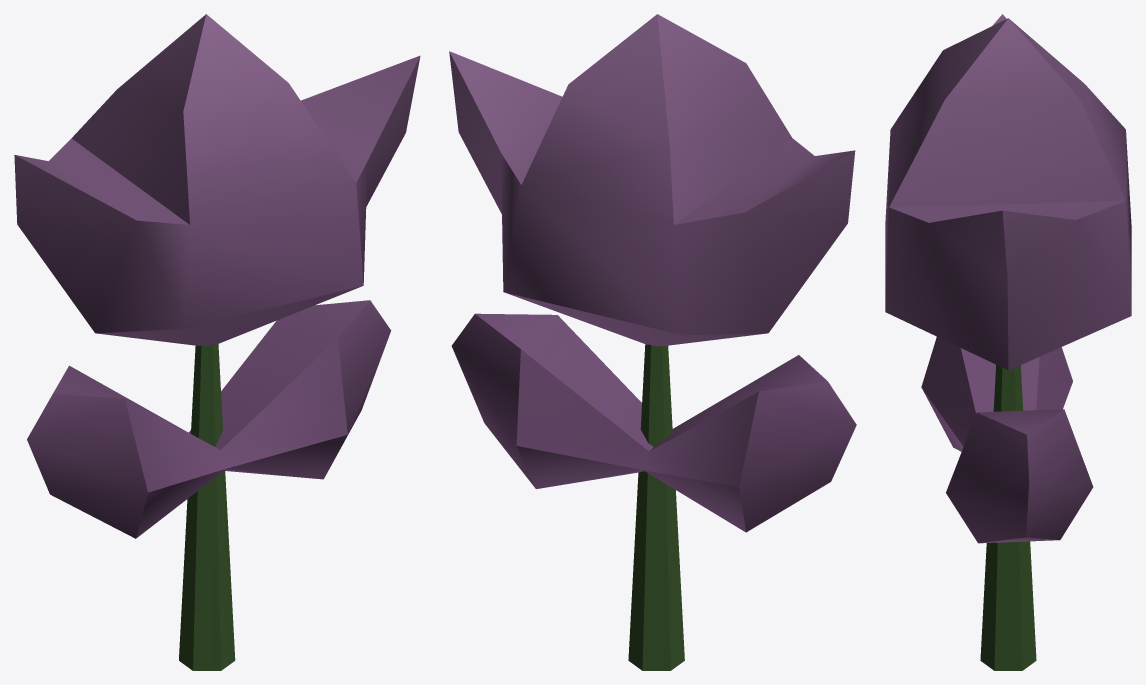
The model's file is Flower_Purple.fbx.
The picture shows the model from 3 angles, left to right: view 1: azimuth 30°, elevation 25°; view 2: azimuth 150°, elevation 25°; view 3: azimuth 270°, elevation 25°; orthographic projection.
Parts seen in each view (by area): view 1: Flower_Purple; view 2: Flower_Purple; view 3: Flower_Purple.
Boxes of the visible parts, x1,y1,x2,y2 form: Flower_Purple: (14, 14, 420, 670); Flower_Purple: (449, 14, 856, 670); Flower_Purple: (885, 14, 1131, 670).
Bounding box in the file's own units: 0.5125 × 0.7799 × 0.2712.
1 material, 1 textured.
